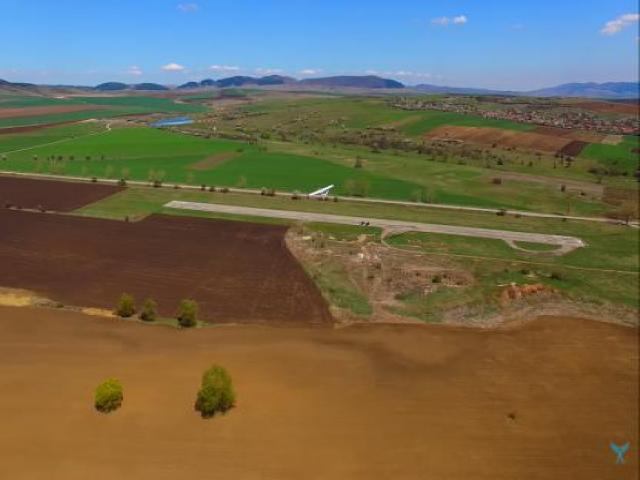uav: (300, 177, 337, 206)
